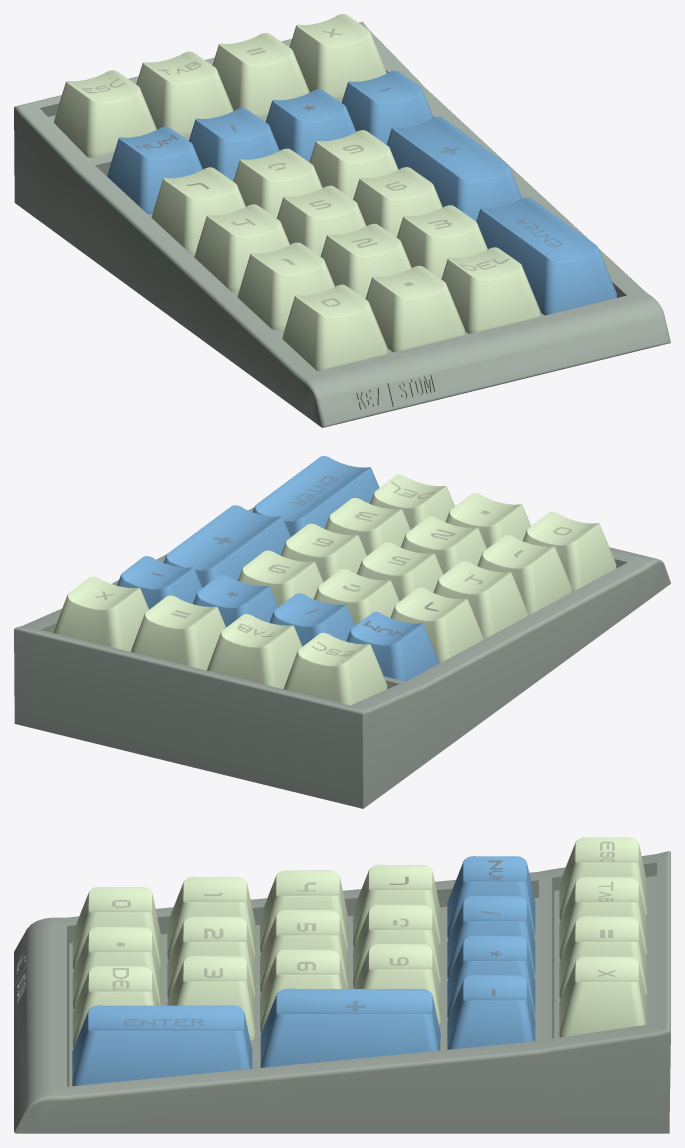
File: numpad.gltf
The picture shows the model from 3 angles, top to bottom: view 1: azimuth 30°, elevation 25°; view 2: azimuth 150°, elevation 25°; view 3: azimuth 270°, elevation 25°; orthographic projection. The views are drawn at different scales.
Parts seen in each view (by area): view 1: Keys1, Base, Keys2, Text; view 2: Base, Keys1, Keys2, Text; view 3: Base, Keys1, Keys2, Text.
Boxes of the visible parts, x1,y1,x2,y2 form: Keys1: (53, 14, 540, 370); Base: (14, 21, 670, 427); Keys2: (107, 70, 616, 315); Text: (82, 28, 562, 306); Base: (14, 507, 670, 808); Keys1: (53, 474, 616, 705); Keys2: (117, 456, 439, 681); Text: (95, 476, 571, 656); Base: (14, 851, 670, 1133); Keys1: (72, 837, 647, 1048); Keys2: (72, 856, 535, 1086); Text: (112, 842, 614, 1025).
Size of the model in its own units: 2.09 by 0.719 by 3.21.
